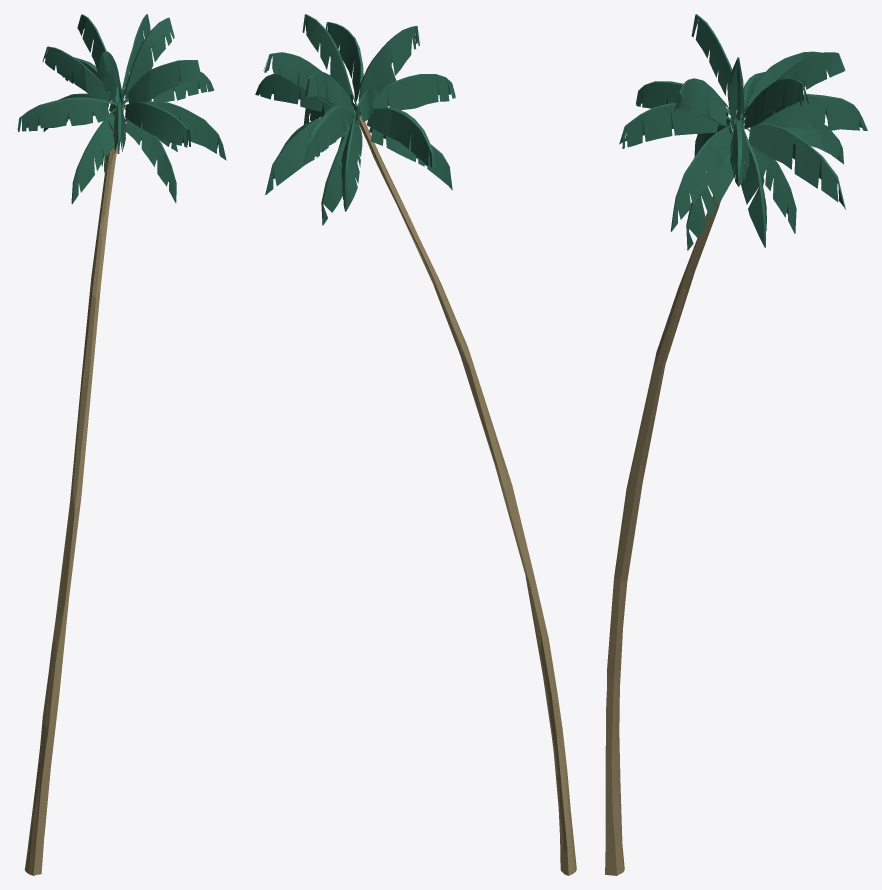
Rendered from tree_palm_nibong_A.fbx.
The picture shows the model from 3 angles, left to right: view 1: azimuth 30°, elevation 25°; view 2: azimuth 150°, elevation 25°; view 3: azimuth 270°, elevation 25°; orthographic projection. The views are drawn at different scales.
Visible parts, largest first — view 1: palm_nibong_trunk_A, leaf_palm_nebong_A_11, leaf_palm_nebong_A_2, leaf_palm_nebong_A_10, leaf_palm_nebong_A_12, leaf_palm_nebong_A_6, leaf_palm_nebong_A_1, leaf_palm_nebong_A_15, leaf_palm_nebong_A_17, leaf_palm_nebong_A_4, leaf_palm_nebong_A_8, leaf_palm_nebong_A_3 (+2 smaller); view 2: palm_nibong_trunk_A, leaf_palm_nebong_A_9, leaf_palm_nebong_A_3, leaf_palm_nebong_A_11, leaf_palm_nebong_A_14, leaf_palm_nebong_A_1, leaf_palm_nebong_A_7, leaf_palm_nebong_A_8, leaf_palm_nebong_A_13, leaf_palm_nebong_A_2, leaf_palm_nebong_A_5, leaf_palm_nebong_A_12 (+2 smaller); view 3: palm_nibong_trunk_A, leaf_palm_nebong_A_14, leaf_palm_nebong_A_7, leaf_palm_nebong_A_10, leaf_palm_nebong_A_15, leaf_palm_nebong_A_5, leaf_palm_nebong_A_17, leaf_palm_nebong_A_2, leaf_palm_nebong_A_16, leaf_palm_nebong_A_18, leaf_palm_nebong_A_4, leaf_palm_nebong_A_3 (+5 smaller).
Boxes of the visible parts, x1,y1,x2,y2 form: palm_nibong_trunk_A: (24, 107, 124, 875); leaf_palm_nebong_A_11: (17, 97, 116, 131); leaf_palm_nebong_A_2: (121, 60, 201, 103); leaf_palm_nebong_A_10: (123, 101, 190, 147); leaf_palm_nebong_A_12: (71, 108, 116, 204); leaf_palm_nebong_A_6: (42, 46, 117, 107); leaf_palm_nebong_A_1: (119, 17, 174, 101); leaf_palm_nebong_A_15: (122, 101, 226, 160); leaf_palm_nebong_A_17: (122, 106, 176, 202); leaf_palm_nebong_A_4: (77, 14, 119, 100); leaf_palm_nebong_A_8: (122, 72, 214, 105); leaf_palm_nebong_A_3: (98, 51, 123, 102); palm_nibong_trunk_A: (357, 115, 576, 875); leaf_palm_nebong_A_9: (372, 74, 455, 110); leaf_palm_nebong_A_3: (354, 26, 419, 109); leaf_palm_nebong_A_11: (367, 107, 435, 167); leaf_palm_nebong_A_14: (265, 111, 355, 194); leaf_palm_nebong_A_1: (302, 14, 356, 106); leaf_palm_nebong_A_7: (303, 105, 355, 165); leaf_palm_nebong_A_8: (255, 72, 359, 115); leaf_palm_nebong_A_13: (341, 114, 362, 211); leaf_palm_nebong_A_2: (325, 22, 363, 102); leaf_palm_nebong_A_5: (263, 52, 332, 107); leaf_palm_nebong_A_12: (369, 127, 452, 190); palm_nibong_trunk_A: (605, 124, 744, 875); leaf_palm_nebong_A_14: (744, 122, 845, 209); leaf_palm_nebong_A_7: (744, 94, 867, 130); leaf_palm_nebong_A_10: (619, 103, 735, 148); leaf_palm_nebong_A_15: (670, 124, 735, 231); leaf_palm_nebong_A_5: (741, 78, 808, 129); leaf_palm_nebong_A_17: (686, 129, 735, 250); leaf_palm_nebong_A_2: (674, 78, 736, 126); leaf_palm_nebong_A_16: (735, 129, 766, 247); leaf_palm_nebong_A_18: (743, 125, 796, 233); leaf_palm_nebong_A_4: (744, 52, 845, 118); leaf_palm_nebong_A_3: (691, 14, 744, 123).
Bounding box in the file's own units: 344 × 1065 × 275.
